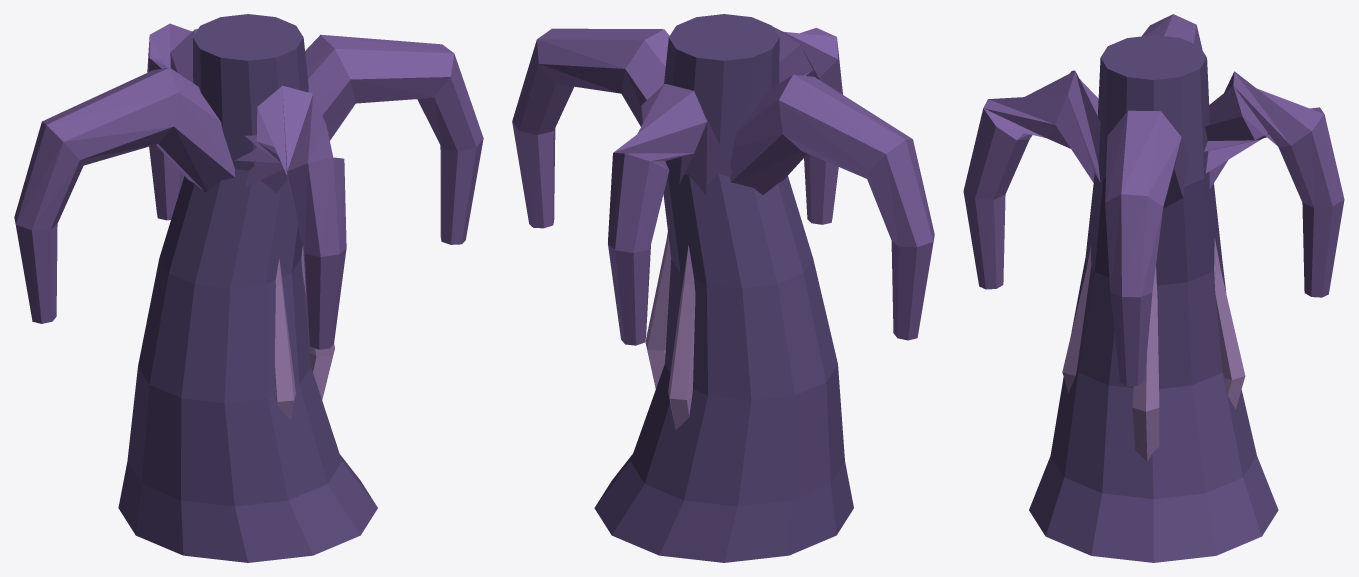
Rendered from VioletWillowTrunk.obj.
The picture shows the model from 3 angles, left to right: view 1: azimuth 30°, elevation 25°; view 2: azimuth 150°, elevation 25°; view 3: azimuth 270°, elevation 25°; orthographic projection. The views are drawn at different scales.
Visible parts, largest first — view 1: VioletWillowTrunk_VioletWillowBark, VioletWillowTrunk_WillowBoughs, VioletWillowTrunk_WillowRaisedGrain; view 2: VioletWillowTrunk_VioletWillowBark, VioletWillowTrunk_WillowBoughs, VioletWillowTrunk_WillowRaisedGrain; view 3: VioletWillowTrunk_VioletWillowBark, VioletWillowTrunk_WillowBoughs, VioletWillowTrunk_WillowRaisedGrain.
Part boxes in pixels (x1,y1,x2,y2): VioletWillowTrunk_VioletWillowBark: (118,14,377,562); VioletWillowTrunk_WillowBoughs: (14,23,483,349); VioletWillowTrunk_WillowRaisedGrain: (275,245,334,420); VioletWillowTrunk_VioletWillowBark: (594,14,853,562); VioletWillowTrunk_WillowBoughs: (512,27,934,345); VioletWillowTrunk_WillowRaisedGrain: (645,232,695,429); VioletWillowTrunk_VioletWillowBark: (1029,35,1278,562); VioletWillowTrunk_WillowBoughs: (963,14,1344,386); VioletWillowTrunk_WillowRaisedGrain: (1062,238,1245,461).
Size of the model in its own units: 2.93 by 3 by 2.29.
